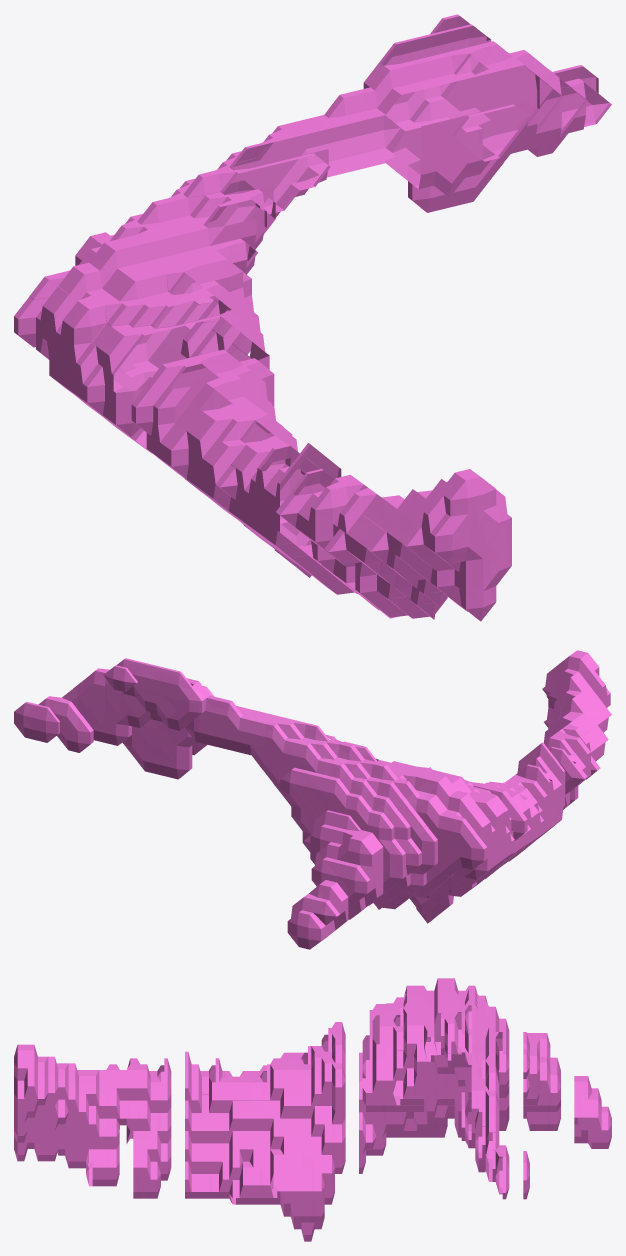
File: SVV_BWM-DR04.gltf
3 renders of one model, top to bottom at view 1: azimuth 30°, elevation 25°; view 2: azimuth 150°, elevation 25°; view 3: azimuth 270°, elevation 25°, orthographic. The views are drawn at different scales.
Parts seen in each view (by area): view 1: BWM-DR04; view 2: BWM-DR04; view 3: BWM-DR04.
Part boxes in pixels (x1,y1,x2,y2): BWM-DR04: [14, 14, 611, 621]; BWM-DR04: [14, 650, 611, 949]; BWM-DR04: [14, 978, 611, 1241].
Size of the model in its own units: 20484 by 12284 by 22411.
